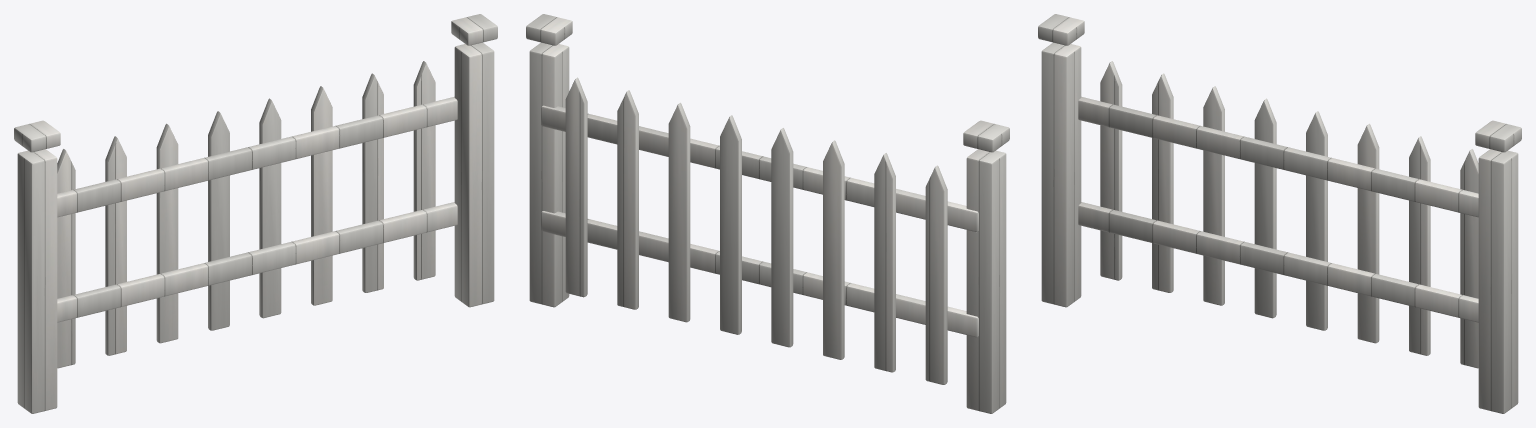
Rendered from fence.glb.
3 views of the same model, side by side, from view 1: azimuth 30°, elevation 25°; view 2: azimuth 150°, elevation 25°; view 3: azimuth 330°, elevation 25° (orthographic).
Visible parts, largest first — view 1: fence; view 2: fence; view 3: fence.
Part boxes in pixels (<box>): fence: <box>14,14,497,413</box>; fence: <box>526,14,1009,413</box>; fence: <box>1038,14,1521,413</box>.
Size of the model in its own units: 2.14 by 1.21 by 0.175.
1 material, 1 textured.
